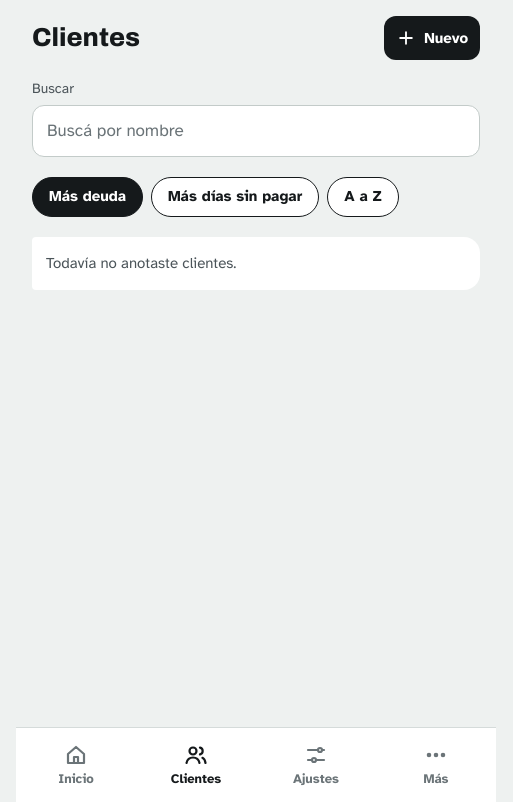
Scenario: Clientes › vacío distingue búsqueda sin resultados de lista vacía
The image size is (513, 802).
Expected: the text "Todavía no anotaste clientes." is shown, [46,254,236,272]
Type "zz" into the search field labelled "Buscar". click: x=256, y=131
box: [32,105,480,157]
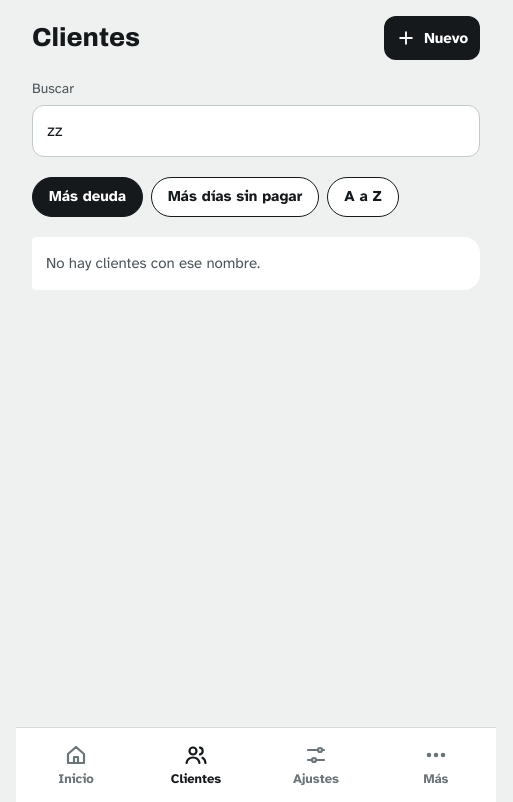
Result: the text "No hay clientes con ese nombre." is shown at [46,254,260,272]
